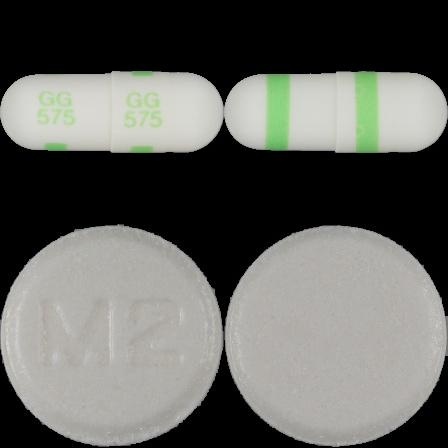53808-0366: (0, 0, 224, 224)
